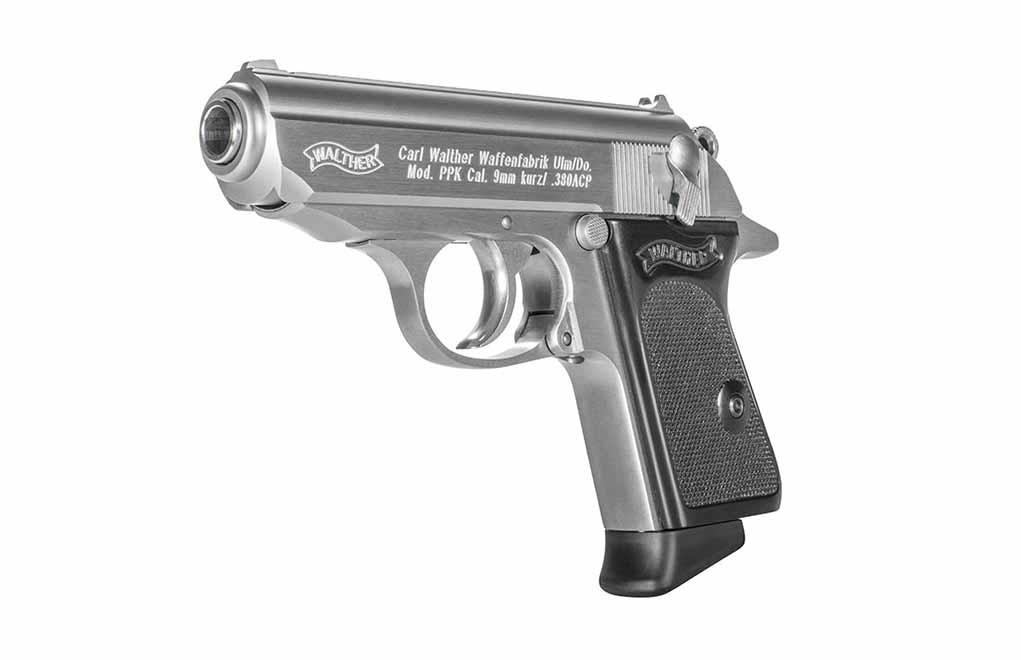gun: (192, 48, 788, 607)
